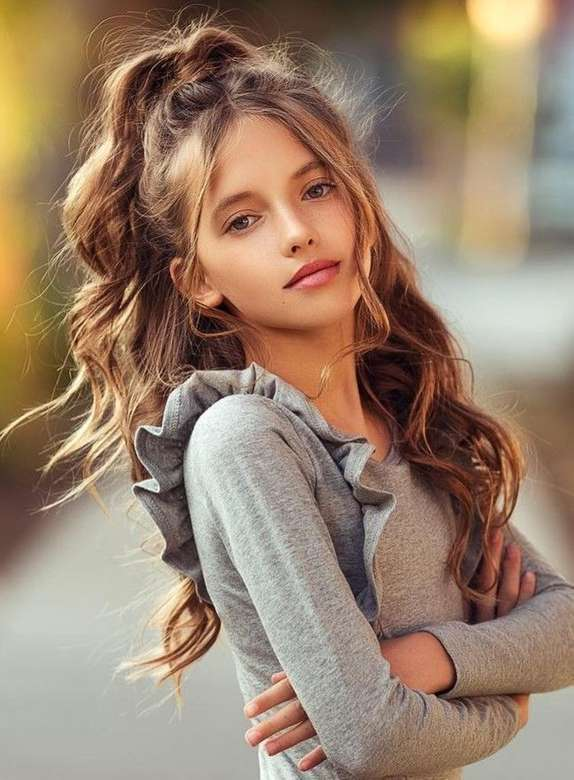GIRL: (127, 78, 382, 330)
